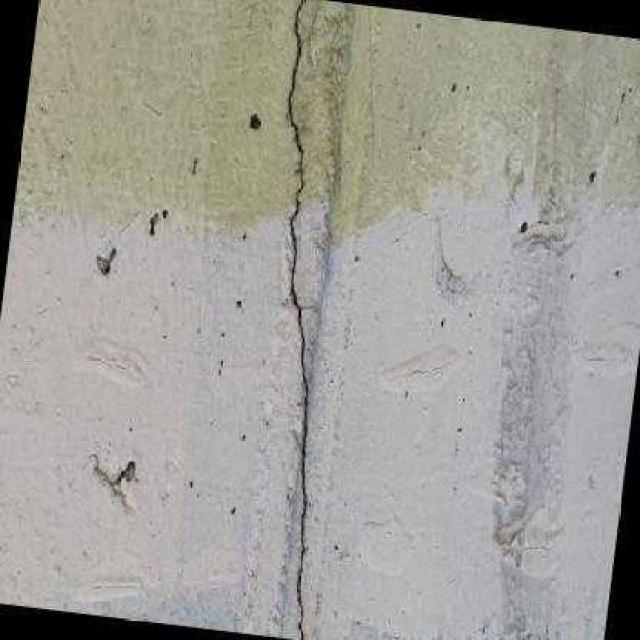D00: (283, 0, 309, 640)
